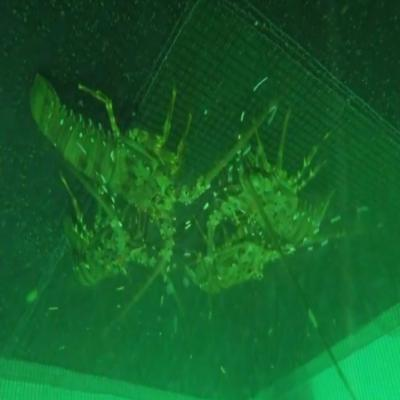lobster: (66, 94, 182, 216), (235, 148, 325, 233), (75, 214, 146, 288), (198, 234, 265, 290)
